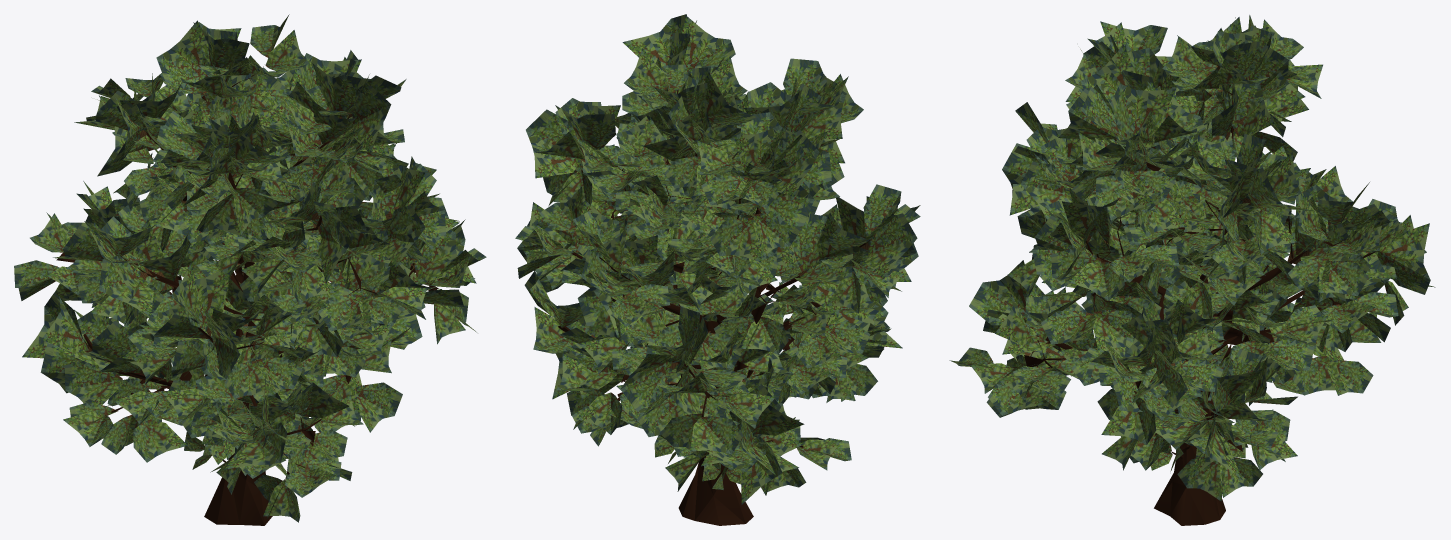
The model's file is tree_LOD1.fbx.
The picture shows the model from 3 angles, left to right: view 1: azimuth 30°, elevation 25°; view 2: azimuth 150°, elevation 25°; view 3: azimuth 270°, elevation 25°; orthographic projection. The views are drawn at different scales.
Parts seen in each view (by area): view 1: LOD0; view 2: LOD0; view 3: LOD0.
Boxes of the visible parts, bbox=[...] form: LOD0: bbox=[14, 14, 486, 525]; LOD0: bbox=[515, 14, 920, 525]; LOD0: bbox=[949, 15, 1435, 525].
Bounding box in the file's own units: 1262 × 1431 × 1303.
